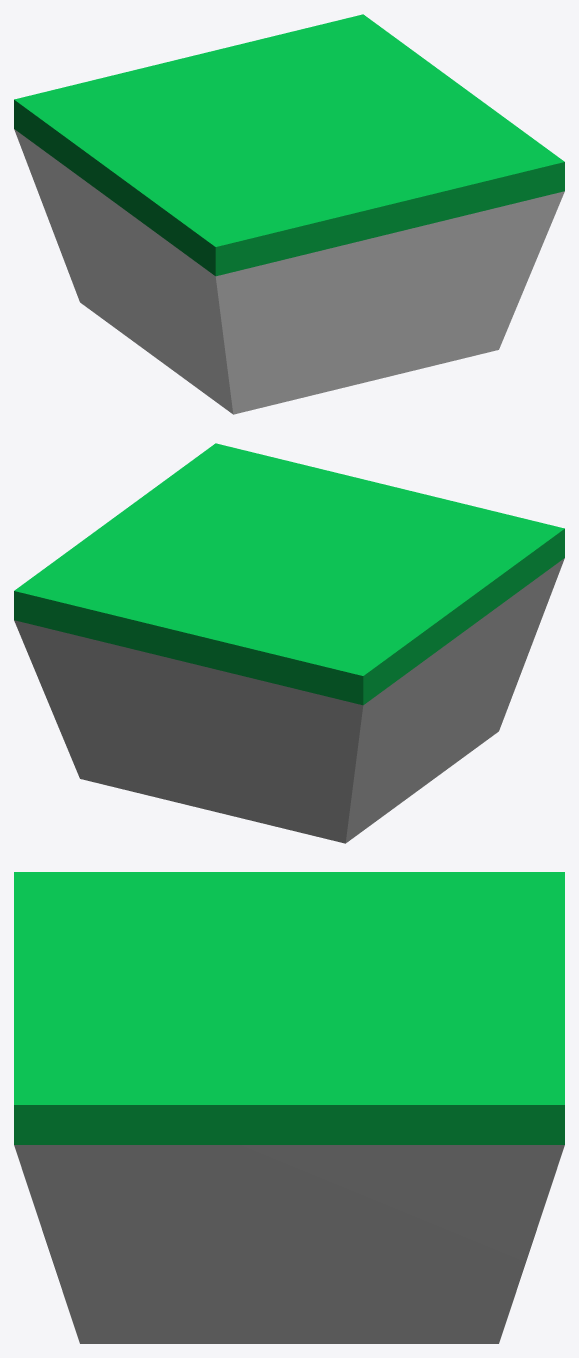
File: Interior Item 03.fbx
3 renders of one model, top to bottom at view 1: azimuth 30°, elevation 25°; view 2: azimuth 150°, elevation 25°; view 3: azimuth 270°, elevation 25°, orthographic. The views are drawn at different scales.
Parts seen in each view (by area): view 1: Interior Item 03; view 2: Interior Item 03; view 3: Interior Item 03.
Boxes of the visible parts, x1,y1,x2,y2 form: Interior Item 03: [14, 14, 564, 414]; Interior Item 03: [14, 443, 564, 843]; Interior Item 03: [14, 872, 564, 1343].
Size of the model in its own units: 11.75 by 6.28 by 11.75.
